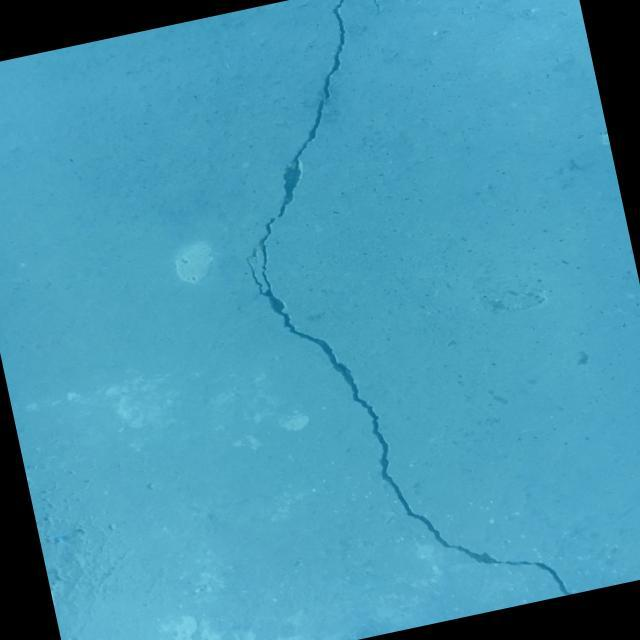crack: (193, 0, 573, 640), (364, 0, 381, 15)
